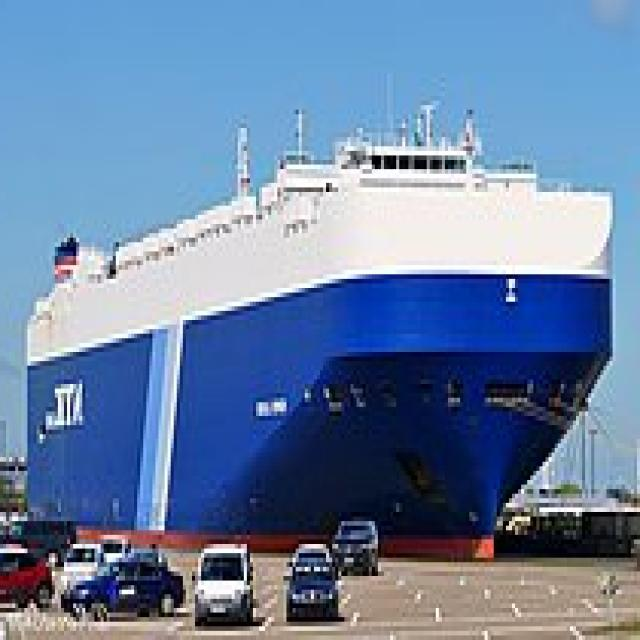Carrier: (27, 87, 618, 562)
